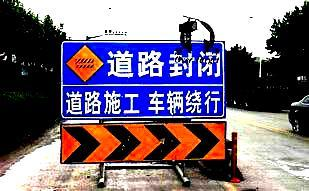sign: (62, 41, 223, 161)
